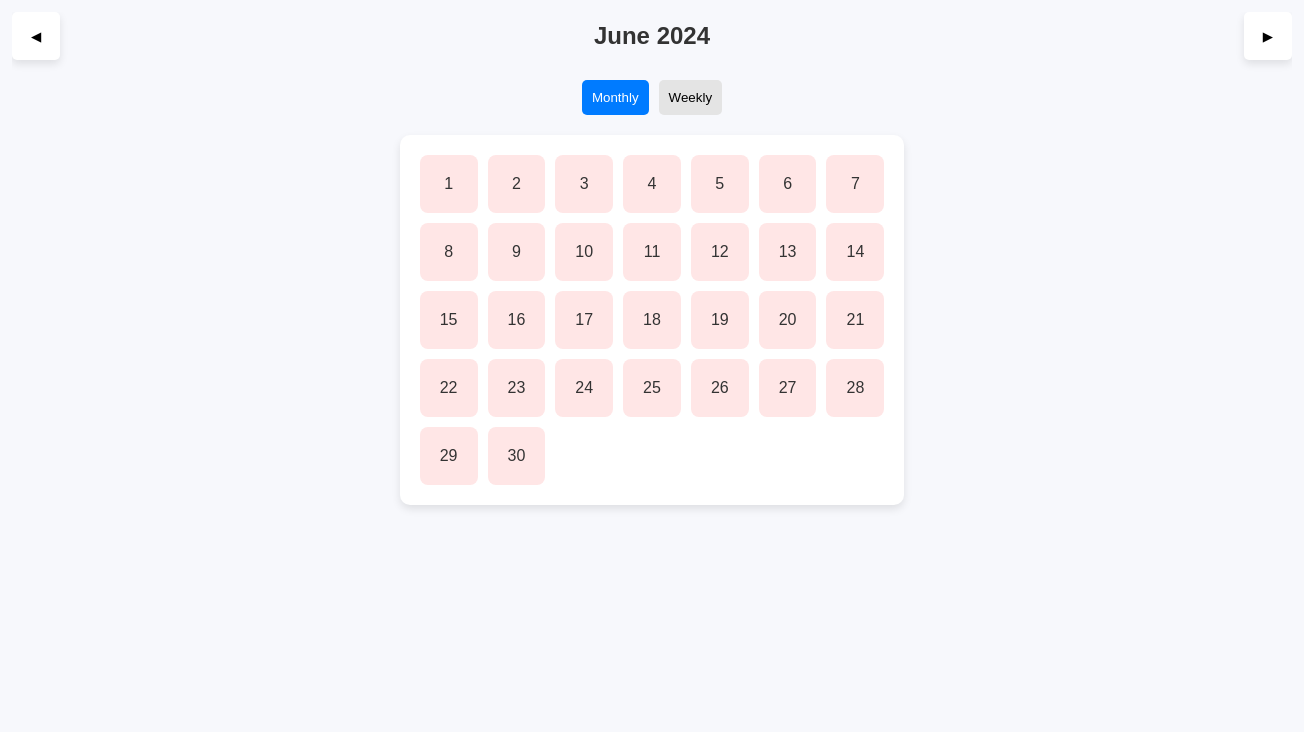
Scenario: Calendar › switches to weekly view
Click the button "Weekly" at (690, 98), box [659,80,722,115]
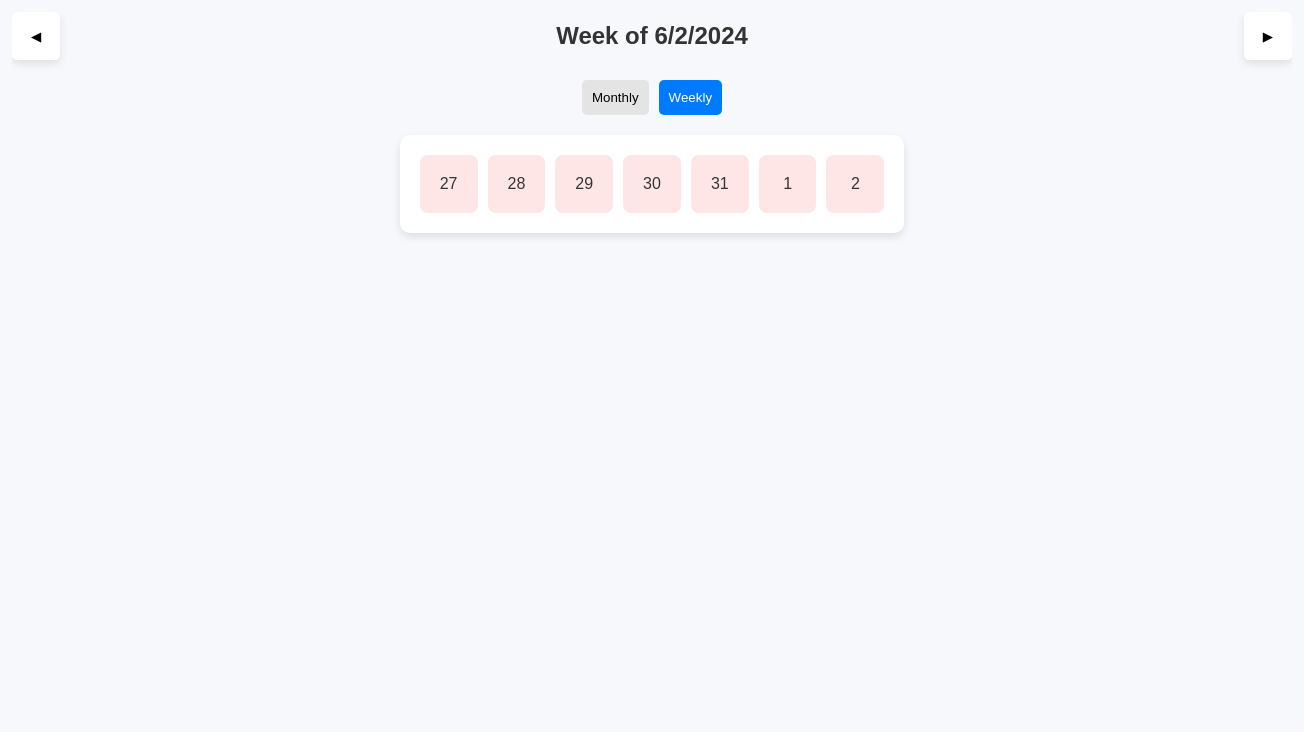
Check: the heading "Week of 6/2/2024" is shown, box [556,22,748,50]
